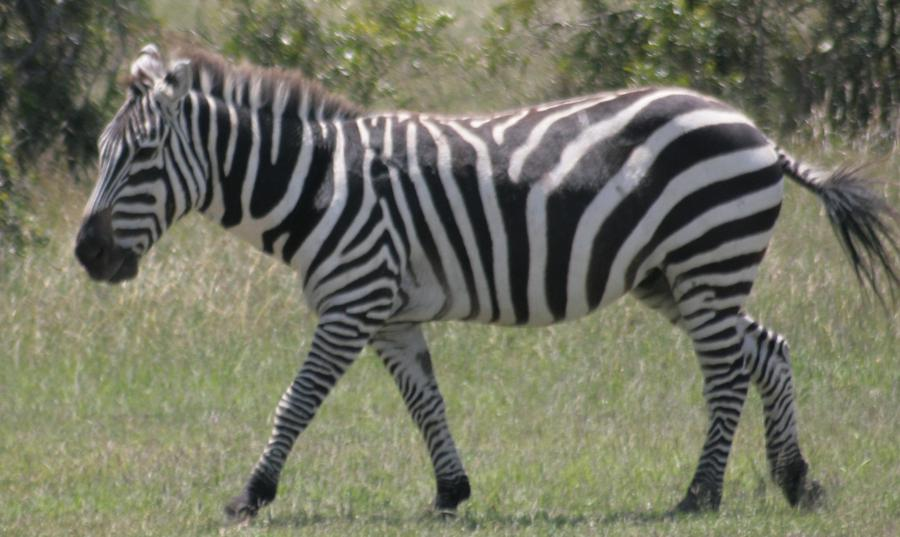zebra_plains: (253, 86, 794, 346)
